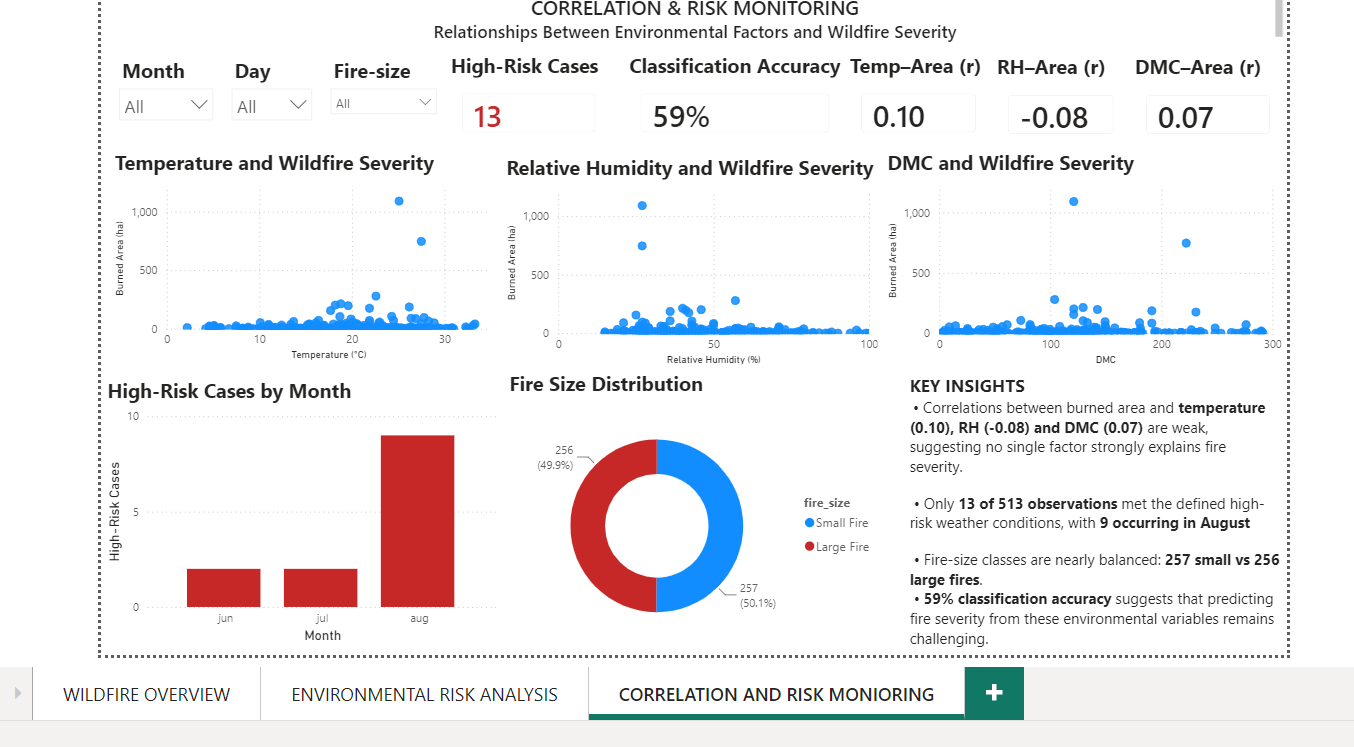

What the dashboard file says about the page in this screenshot:
{"tool":"powerbi","page":{"name":"CORRELATION AND RISK MONIORING","canvas":[1280,720],"ordinal":2},"visuals":[{"type":"textbox","box":[9.7,0,1271.1,68],"z":0},{"type":"scatterChart","title":"Temperature and Wildfire Severity","fields":{"X":["df_cleaned.temp"],"Y":["df_cleaned.area"]},"box":[9.7,173.3,422.6,233.2],"z":1000},{"type":"scatterChart","title":"Relative Humidity and Wildfire Severity","fields":{"Y":["df_cleaned.area"],"X":["df_cleaned.RH"]},"box":[432.3,178.1,411.3,233.2],"z":2000},{"type":"scatterChart","title":"DMC and Wildfire Severity","fields":{"Y":["df_cleaned.area"],"X":["df_cleaned.DMC"]},"box":[843.6,173.3,435.6,238],"z":3000},{"type":"cardVisual","title":"High-Risk Cases","fields":{"Data":["df_cleaned.High Risk Conditions"]},"box":[372.4,68,178.1,105.2],"z":4000},{"type":"cardVisual","title":"Classification Accuracy","fields":{"Data":["MonthTable.Model Accuracy"]},"box":[565.1,68,238,105.2],"z":5000},{"type":"donutChart","title":"Fire Size Distribution","fields":{"Category":["df_cleaned.fire_size"],"Y":["CountNonNull(df_cleaned.fire_size)"]},"box":[435.6,411.3,408,309.3],"z":6000},{"type":"slicer","fields":{"Values":["df_cleaned.Month"]},"box":[9.7,68,121.4,92.3],"z":7000},{"type":"slicer","fields":{"Values":["df_cleaned.day"]},"box":[131.2,68,106.9,93.9],"z":8000},{"type":"slicer","fields":{"Values":["df_cleaned.fire_size"]},"box":[238,68,134.4,93.9],"z":9000},{"type":"columnChart","title":"High-Risk Cases by Month","fields":{"Y":["CountNonNull(df_cleaned.area)"],"Category":["df_cleaned.Month"]},"box":[1.6,419.4,430.7,291.5],"z":10000},{"type":"textbox","box":[867.9,411.3,411.3,309.3],"z":11000},{"type":"cardVisual","title":"Temp–Area (r)","fields":{"Data":["MonthTable.Temperature Area Correlation"]},"box":[803.1,68,158.7,105.2],"z":12000},{"type":"cardVisual","title":"RH–Area (r)","fields":{"Data":["MonthTable.RH Area Correlation"]},"box":[961.8,69.6,149,105.2],"z":13000},{"type":"cardVisual","title":"DMC–Area (r)","fields":{"Data":["MonthTable.DMC Area Correlation"]},"box":[1110.8,69.6,168.4,105.2],"z":14000}]}

Visuals, with their boxes on the page's 1280x720 design canvas (x1, y1, x2, y2). These are canvas units, not pixel positions in the 1354x747 screenshot, which may show the page scaled, cropped or inside an application window:
textbox: region(10, 0, 1281, 68)
"Temperature and Wildfire Severity" scatterChart: region(10, 173, 432, 406)
"Relative Humidity and Wildfire Severity" scatterChart: region(432, 178, 844, 411)
"DMC and Wildfire Severity" scatterChart: region(844, 173, 1279, 411)
"High-Risk Cases" cardVisual: region(372, 68, 550, 173)
"Classification Accuracy" cardVisual: region(565, 68, 803, 173)
"Fire Size Distribution" donutChart: region(436, 411, 844, 721)
slicer - df_cleaned.Month: region(10, 68, 131, 160)
slicer - df_cleaned.day: region(131, 68, 238, 162)
slicer - df_cleaned.fire_size: region(238, 68, 372, 162)
"High-Risk Cases by Month" columnChart: region(2, 419, 432, 711)
textbox: region(868, 411, 1279, 721)
"Temp–Area (r)" cardVisual: region(803, 68, 962, 173)
"RH–Area (r)" cardVisual: region(962, 70, 1111, 175)
"DMC–Area (r)" cardVisual: region(1111, 70, 1279, 175)
